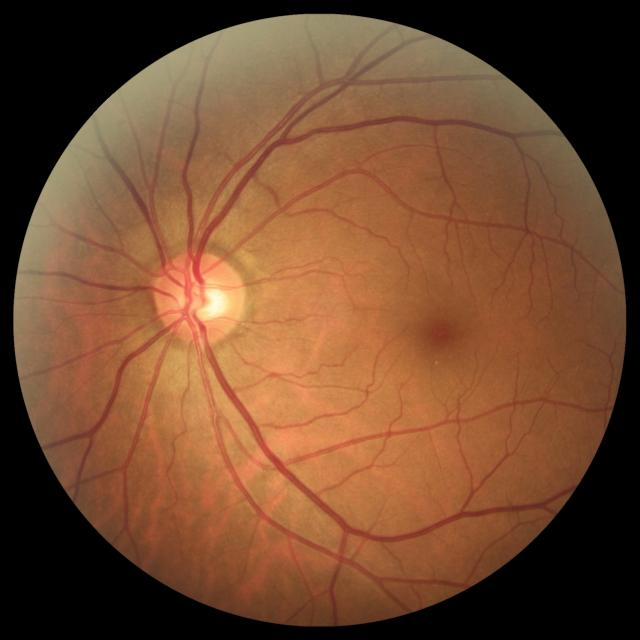OC: (188, 278, 225, 322)
OD: (155, 252, 246, 344)
